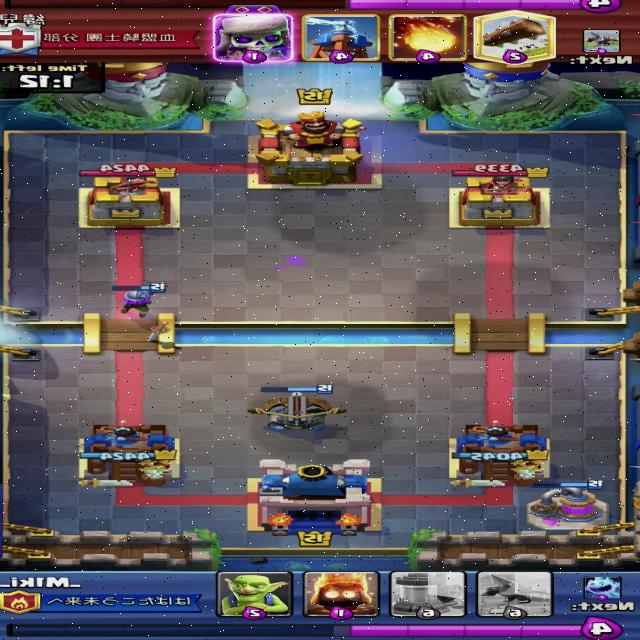Player-ElixirPump: (524, 480, 610, 532)
Player-Musketeer: (114, 283, 168, 321)
Player-XBow: (245, 385, 348, 431)
